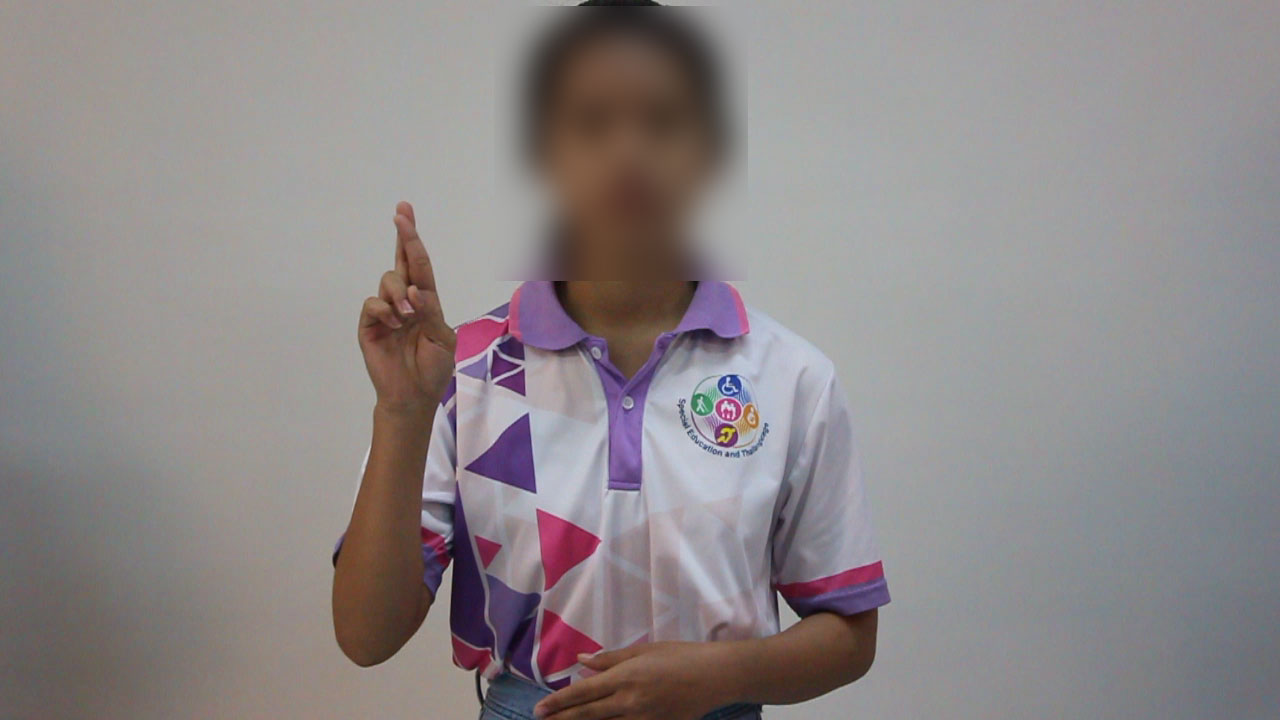rao: (339, 192, 472, 437)
